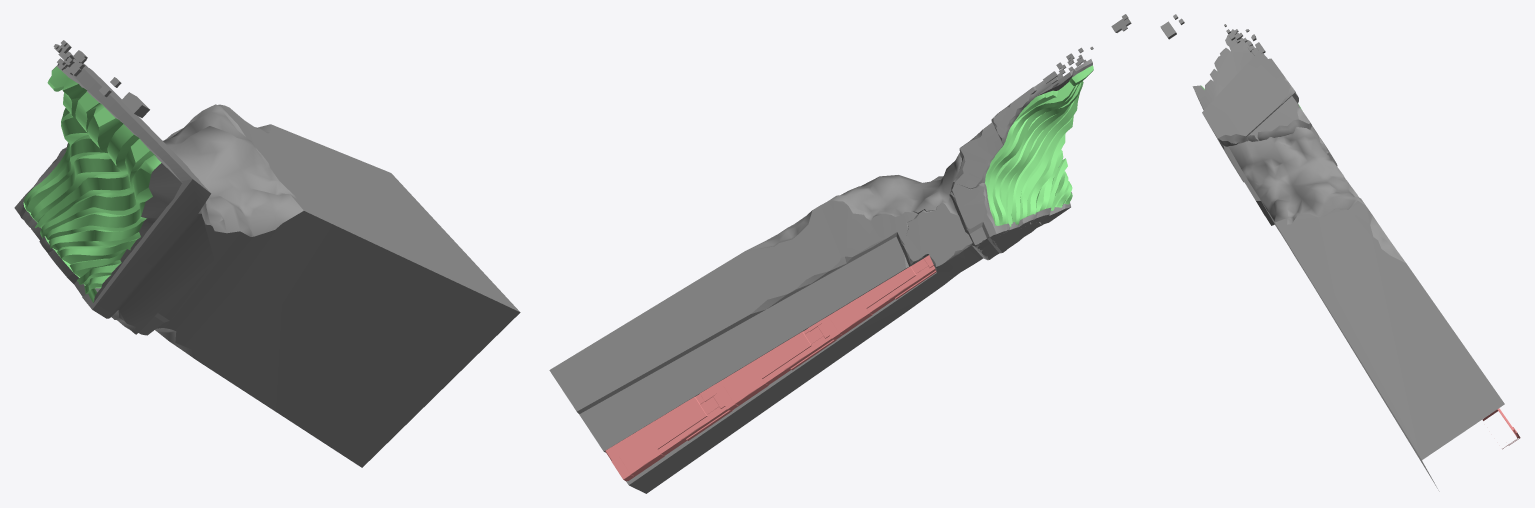
The model's file is S_Envi_FZFBase_Rough_01a.gltf.
The picture shows the model from 3 angles, left to right: view 1: azimuth 30°, elevation 25°; view 2: azimuth 150°, elevation 25°; view 3: azimuth 270°, elevation 25°; orthographic projection. The views are drawn at different scales.
Parts seen in each view (by area): view 1: S_Envi_FZFBase_Rough_01a; view 2: S_Envi_FZFBase_Rough_01a; view 3: S_Envi_FZFBase_Rough_01a.
Part boxes in pixels (box(x1,y1,x2,y2)): S_Envi_FZFBase_Rough_01a: box(14, 40, 520, 467); S_Envi_FZFBase_Rough_01a: box(549, 14, 1131, 493); S_Envi_FZFBase_Rough_01a: box(1160, 14, 1520, 491).
Size of the model in its own units: 140 by 144 by 132.
